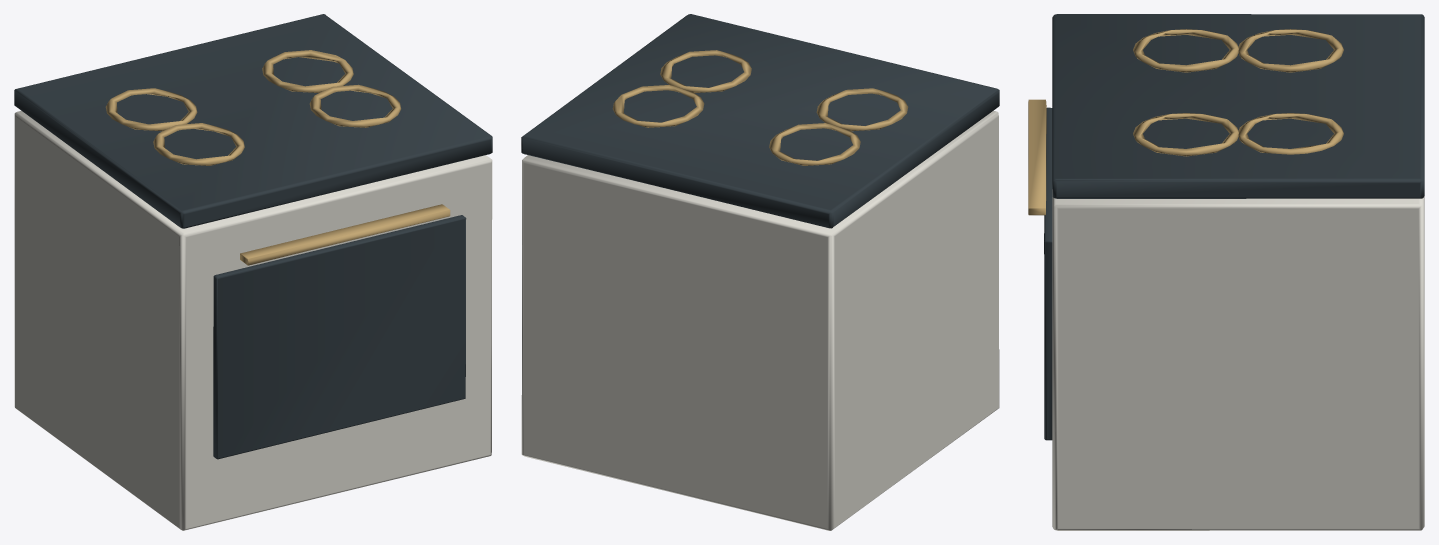
The model's file is stove-8-2.lod.glb.
3 renders of one model, left to right at view 1: azimuth 30°, elevation 25°; view 2: azimuth 150°, elevation 25°; view 3: azimuth 270°, elevation 25°, orthographic. The views are drawn at different scales.
Visible parts, largest first — view 1: upholstery (×2), part; view 2: upholstery (×2), part; view 3: upholstery (×2), part.
Part boxes in pixels (x1,y1,x2,y2): upholstery (×2): (14,14,492,530); part: (105,50,450,265); upholstery (×2): (521,14,999,530); part: (612,50,908,165); upholstery (×2): (1044,14,1424,530); part: (1028,29,1343,215).
Bounding box in the file's own units: 1 × 1 × 1.
